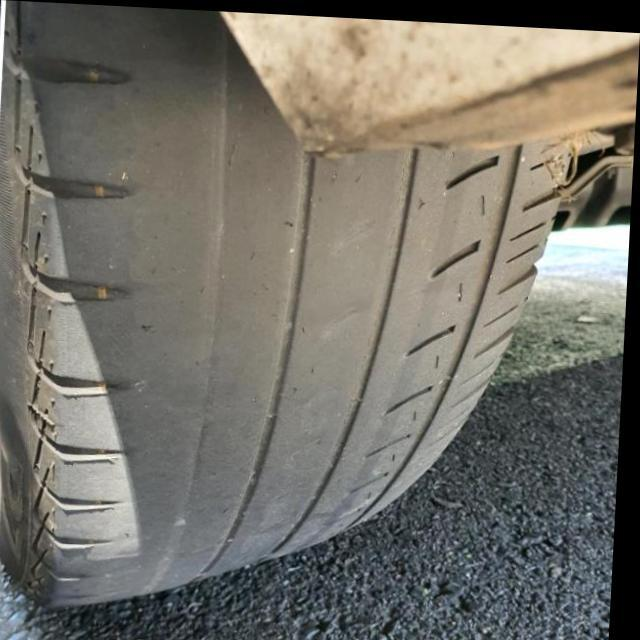Flat spots: (93, 85, 295, 577)
